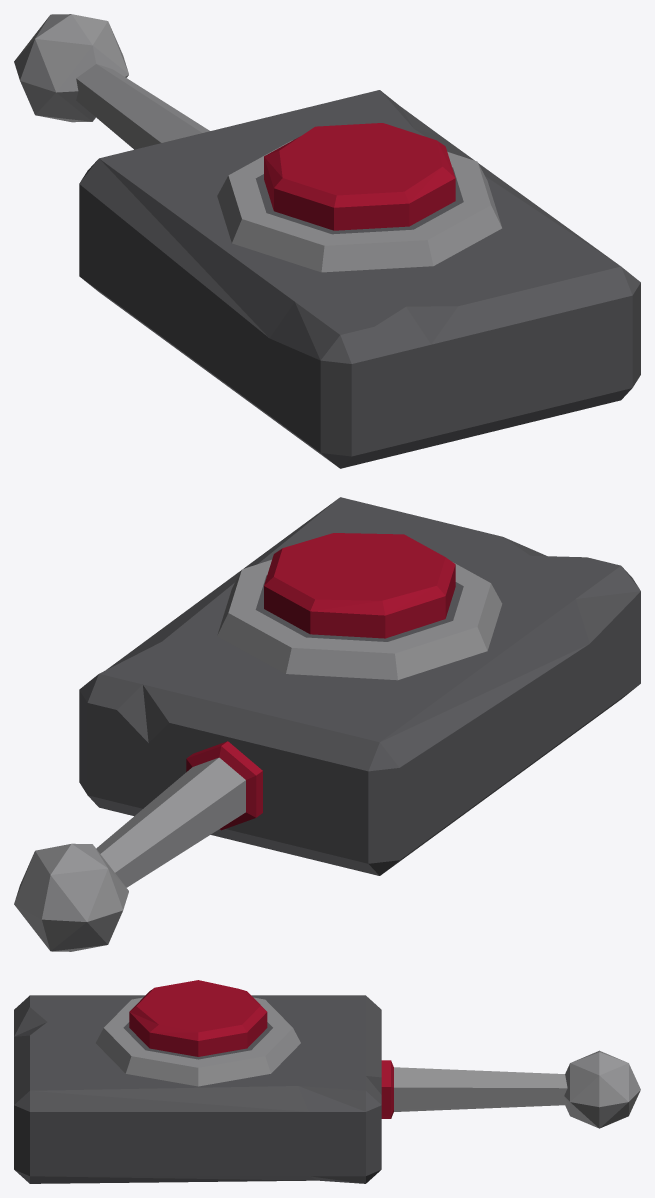
File: air-strike-button.obj
3 renders of one model, top to bottom at view 1: azimuth 30°, elevation 25°; view 2: azimuth 150°, elevation 25°; view 3: azimuth 270°, elevation 25°, orthographic. The views are drawn at different scales.
Parts seen in each view (by area): view 1: air-strike-button.obj; view 2: air-strike-button.obj; view 3: air-strike-button.obj.
Part boxes in pixels (left/top/right/bottom): air-strike-button.obj: left=14, top=14, right=640, bottom=468; air-strike-button.obj: left=14, top=497, right=640, bottom=951; air-strike-button.obj: left=14, top=980, right=640, bottom=1183.
Bounding box in the file's own units: 0.1626 × 0.0906 × 0.3958.
